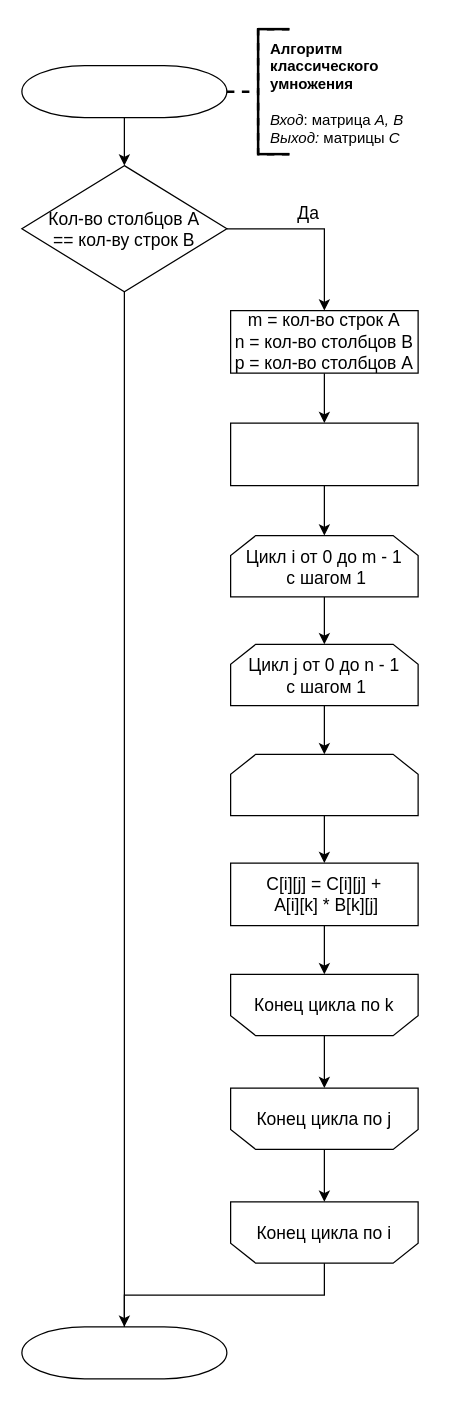
Image size: 473x1401. Some labels were removed from this diagram. Each missing label, with the centre of its shape:
Конец: the point at 124,1352
Начало: the point at 124,91
Создание матрицы С размеров m×n: the point at 323,454
Цикл k от 0 до p - 1 с шагом 1: the point at 323,784
